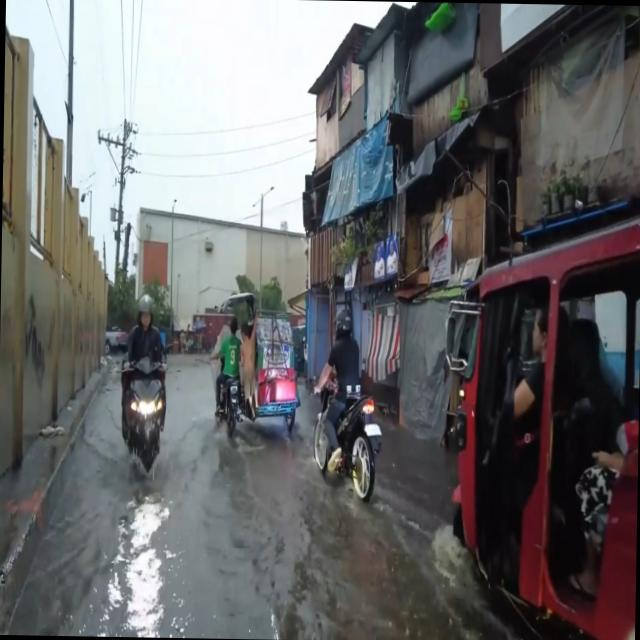full: (332, 306, 352, 341)
half: (136, 293, 154, 330)
